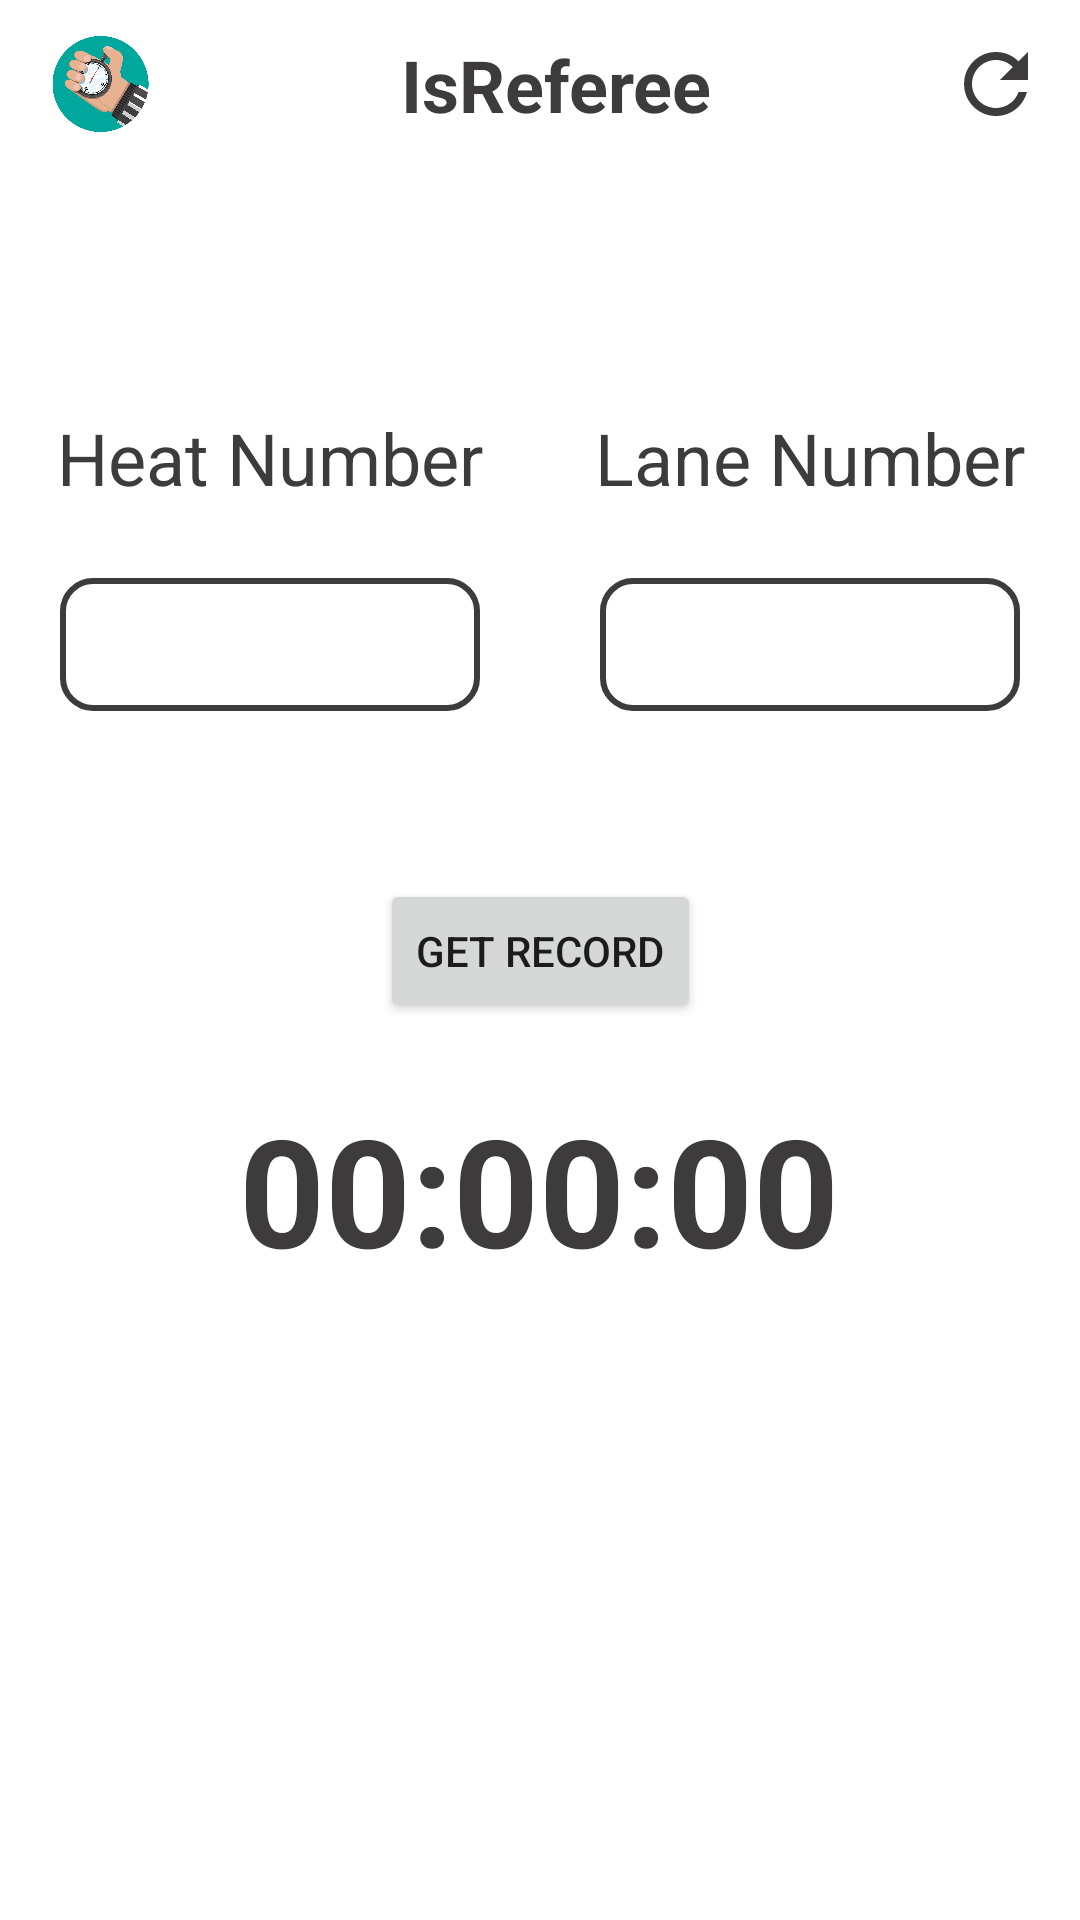

Icon bounding boxes for this 1080*1920 phone screenshot, format (x1, y1, x2, y2):
refresh: (964, 52, 1028, 116)
